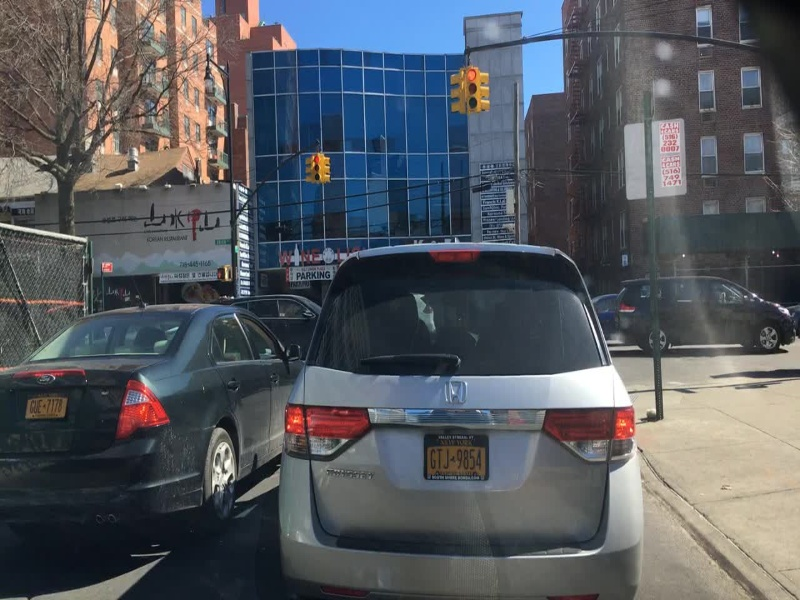car: (278, 232, 641, 600), (1, 298, 299, 550), (616, 277, 794, 354), (235, 295, 320, 346)
